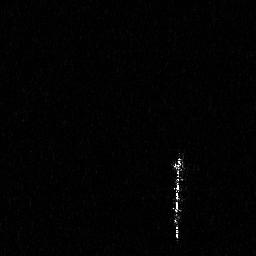ship: (169, 148, 187, 246)
